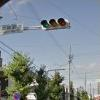traffic lights: (39, 18, 70, 32)
